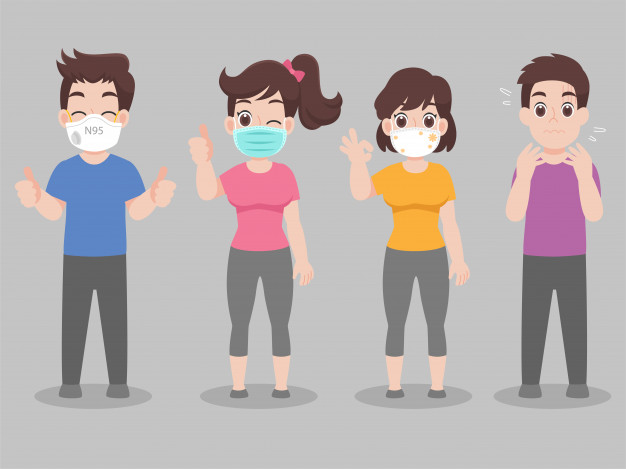mask: (61, 114, 131, 156), (223, 123, 296, 161), (383, 122, 448, 158)
